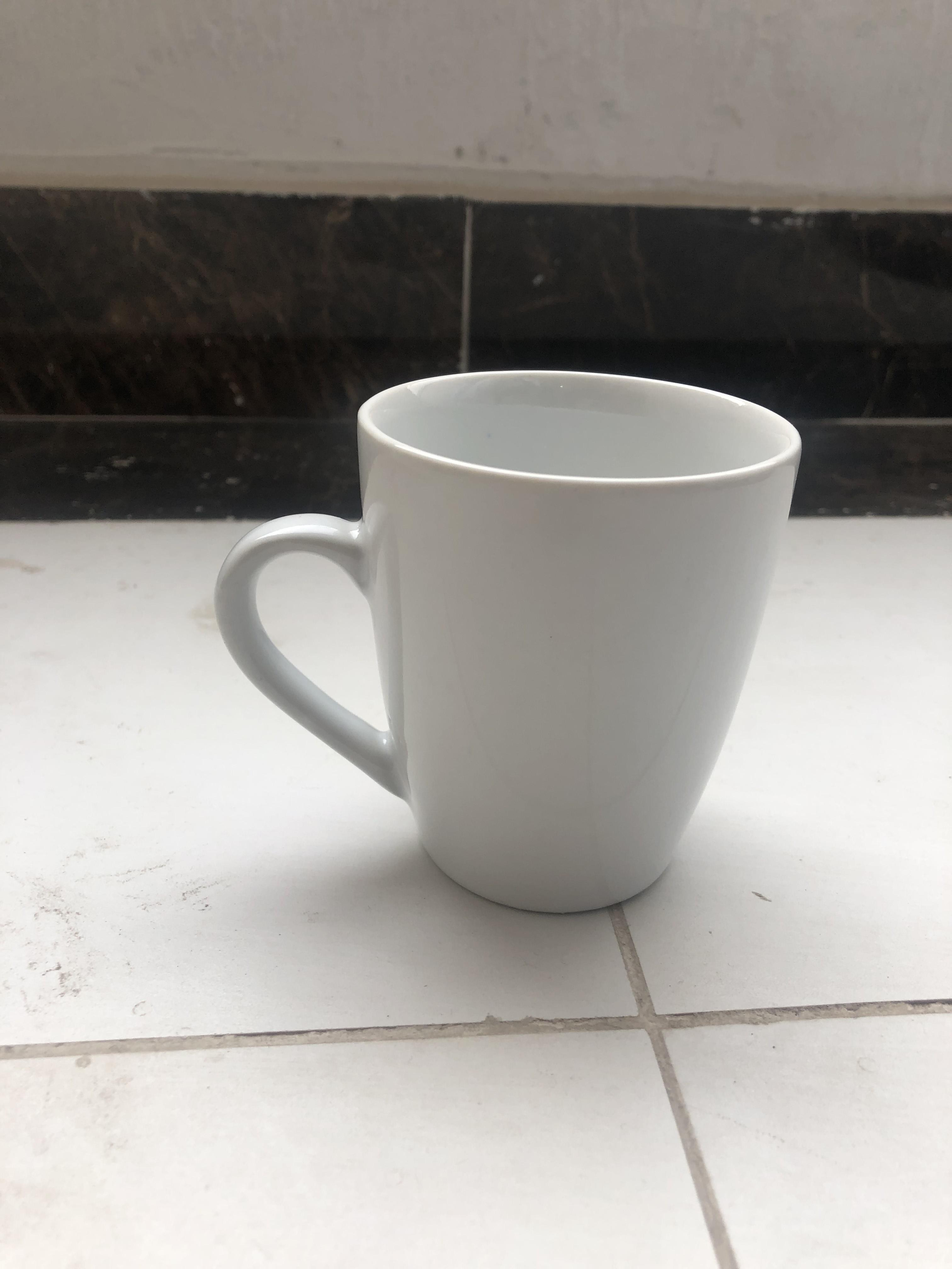cup-handle: (212, 367, 805, 926)
